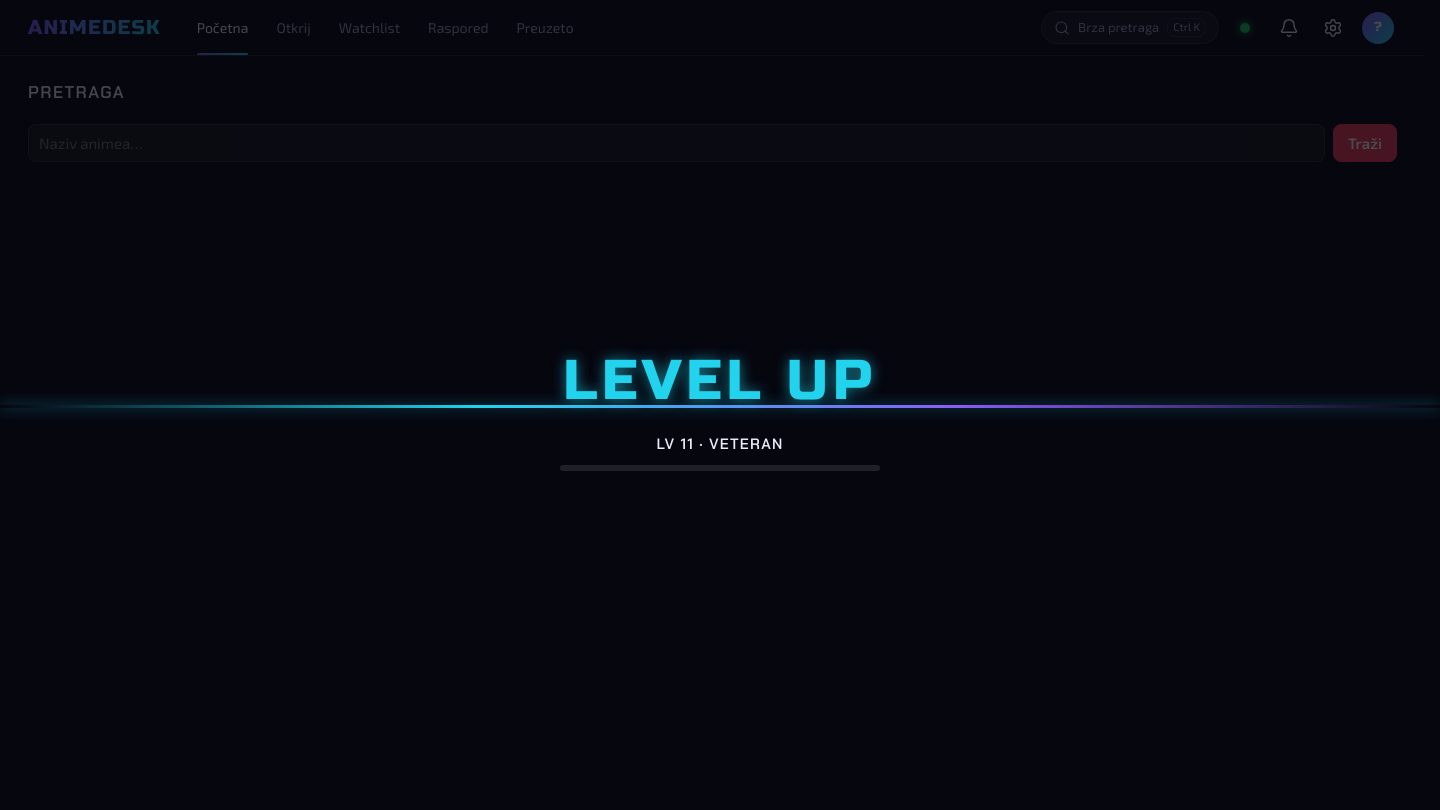
Test: App celebrations › holds the completed toast until the level-up overlay is closed
Check: the text "ZAVRŠENO · Show · +50 XP" is not shown
Click the dialog "LEVEL UP".
click(720, 761)  # box left=0, top=0, right=1439, bottom=809
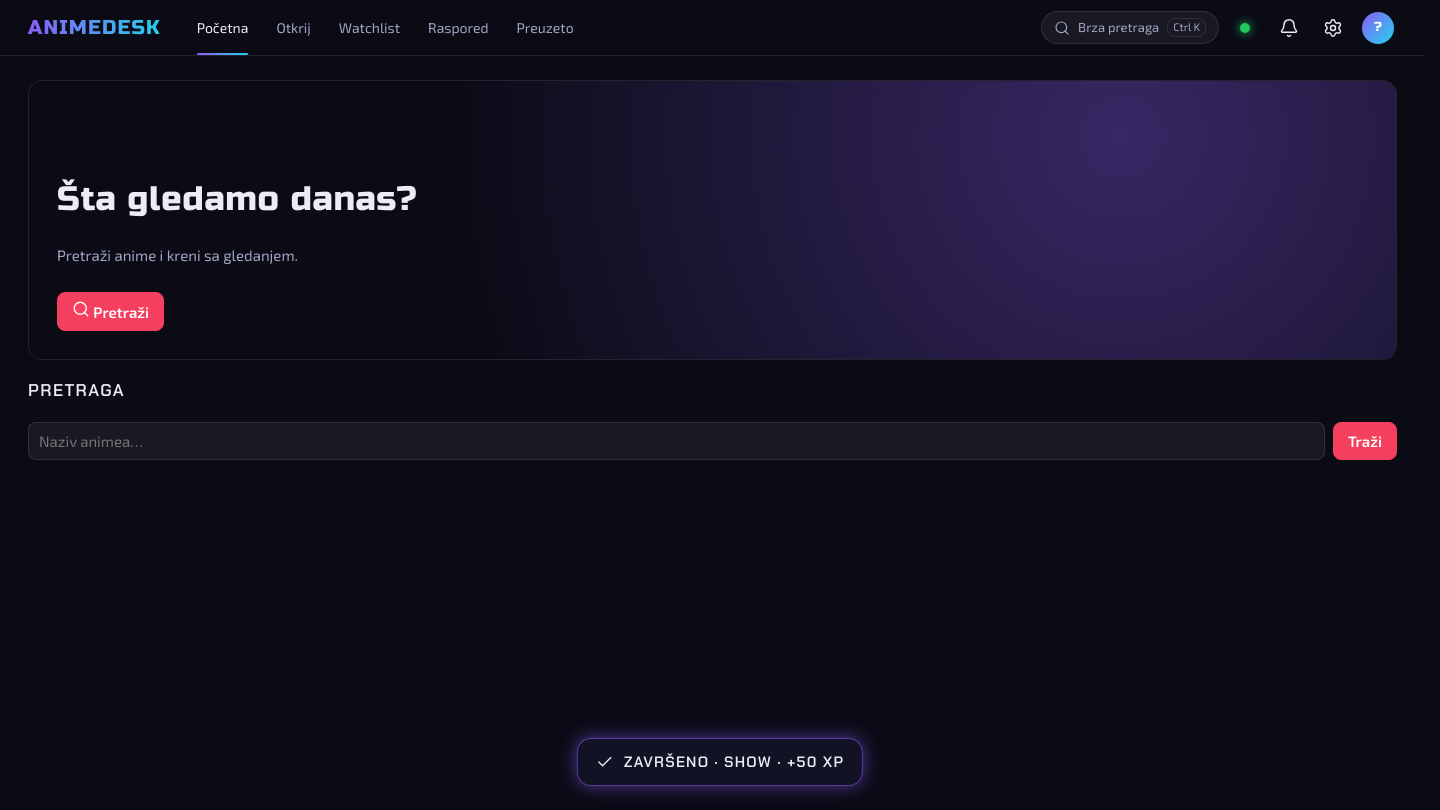
Check: the text "ZAVRŠENO · Show · +50 XP" is shown, box left=624, top=750, right=844, bottom=773
